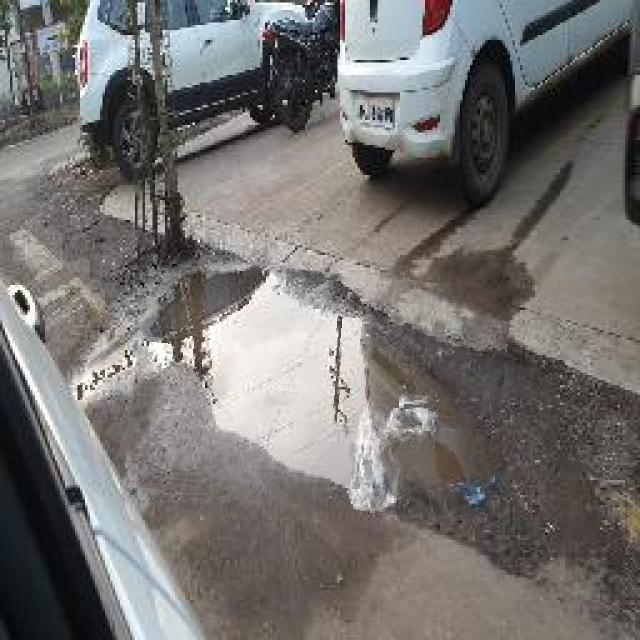puddle: (130, 263, 508, 516)
